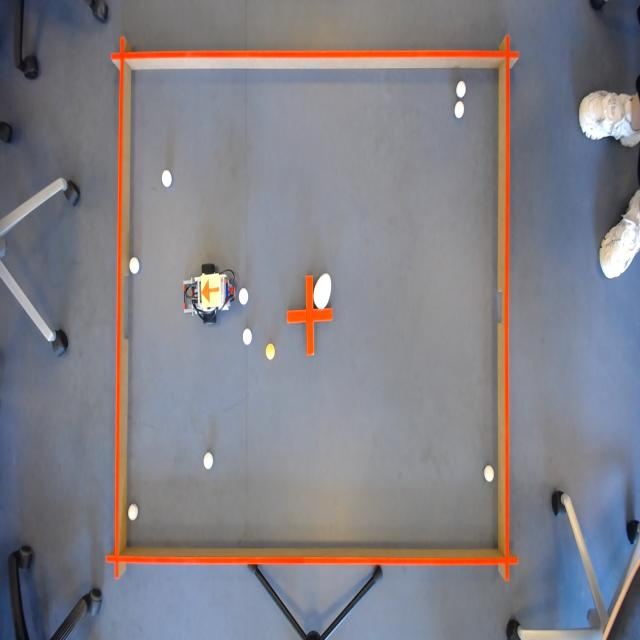cross: (286, 272, 335, 357)
egg: (312, 266, 332, 310)
orange_ball: (266, 339, 278, 364)
robot: (201, 274, 222, 307)
white_ball: (453, 98, 468, 122), (201, 449, 215, 473), (126, 500, 140, 524), (128, 254, 141, 278), (241, 324, 253, 348), (454, 74, 466, 98), (482, 461, 494, 484), (161, 167, 173, 189), (238, 287, 249, 309)
